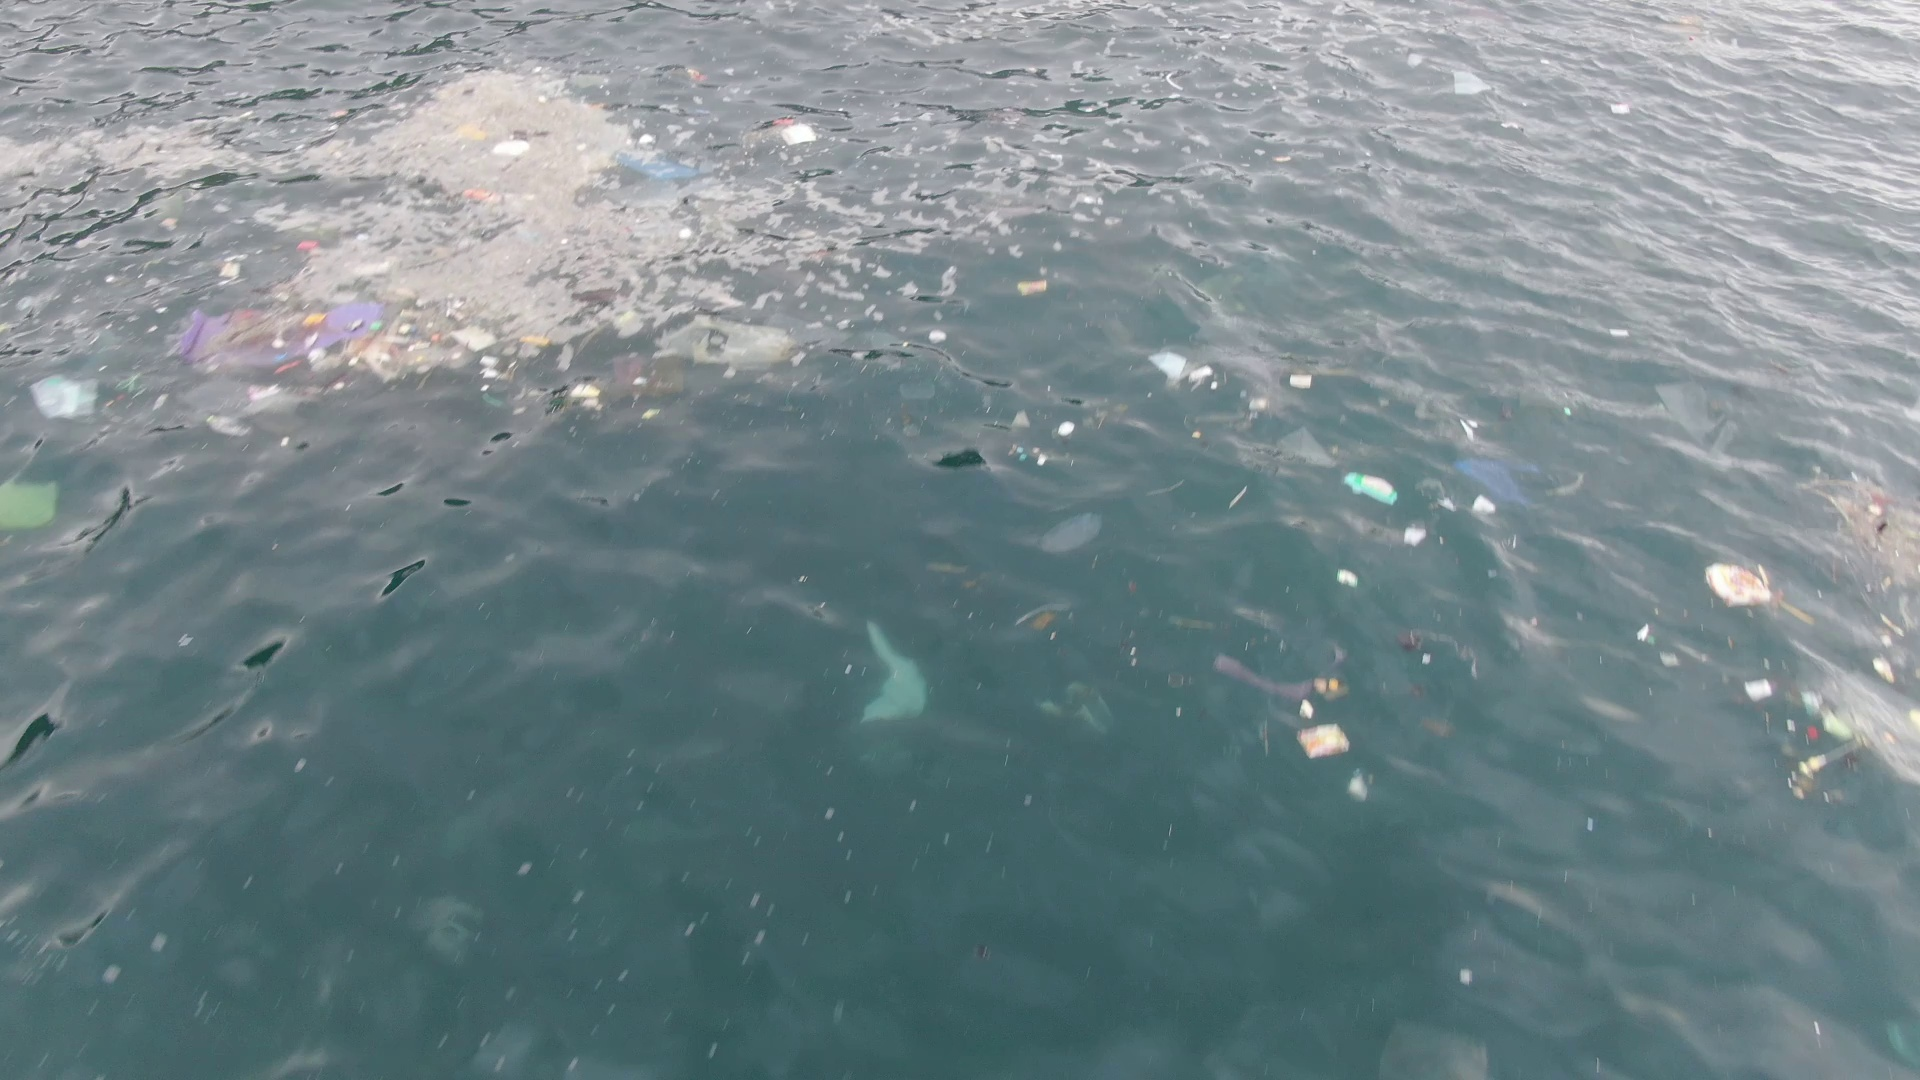bottle: (206, 413, 255, 436)
garbage: (178, 301, 571, 386), (1799, 473, 1920, 578), (1211, 636, 1356, 698), (651, 313, 794, 371), (1451, 456, 1584, 514), (1702, 559, 1815, 620), (864, 620, 928, 720), (1871, 582, 1920, 686), (1788, 744, 1859, 802), (1785, 684, 1855, 742), (1394, 626, 1478, 670), (1298, 699, 1353, 761), (1635, 624, 1708, 669), (29, 373, 98, 419), (1, 480, 59, 533), (1149, 348, 1218, 392), (1040, 512, 1102, 554), (615, 153, 700, 182), (1342, 472, 1396, 508), (1011, 603, 1072, 633), (460, 185, 535, 204), (770, 116, 818, 146), (563, 378, 605, 411), (1345, 767, 1378, 804), (1451, 69, 1495, 95), (1007, 442, 1046, 467), (491, 137, 531, 157), (1743, 678, 1774, 702), (1335, 567, 1360, 589), (1017, 278, 1048, 294), (1404, 525, 1425, 547), (1458, 418, 1478, 440), (1288, 372, 1313, 389), (684, 69, 709, 84), (1056, 419, 1077, 438), (220, 258, 240, 277), (1247, 396, 1269, 411), (295, 237, 320, 249), (1610, 102, 1631, 113), (678, 227, 694, 240)
